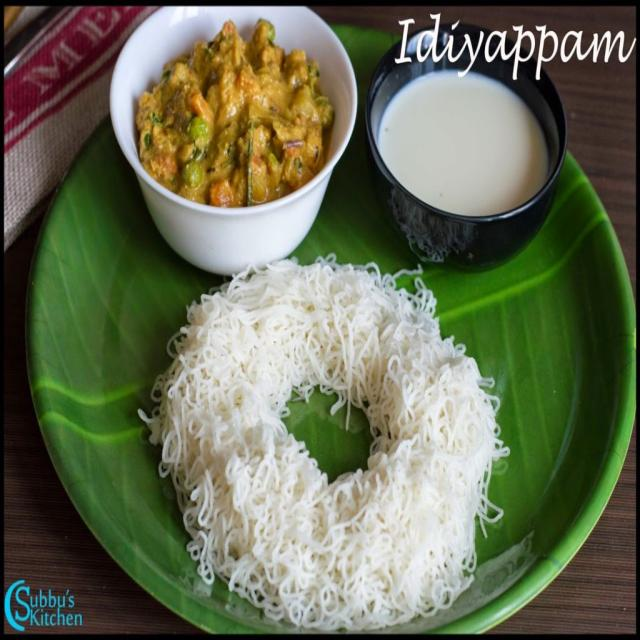CURRY: (124, 7, 344, 213)
IDIYAPPAM: (142, 259, 491, 639)
